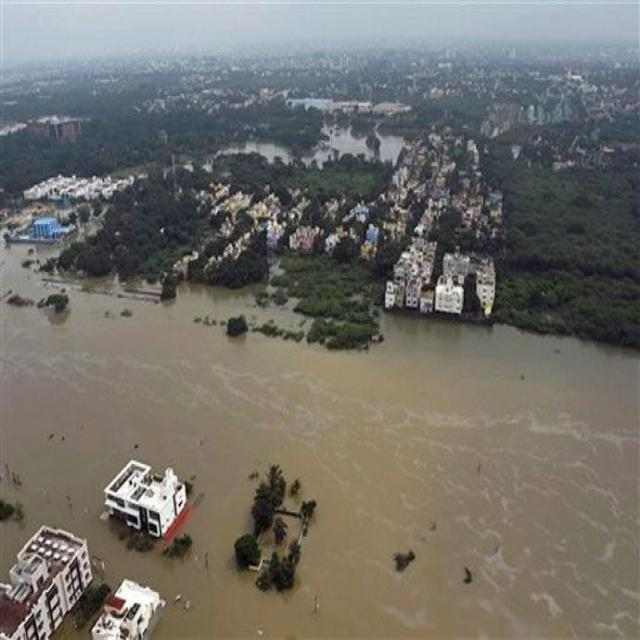flood: (0, 240, 640, 640), (301, 137, 369, 168), (227, 143, 291, 164), (381, 136, 404, 161)
house: (5, 528, 94, 638), (102, 458, 190, 543), (92, 576, 166, 639), (34, 216, 62, 238)
